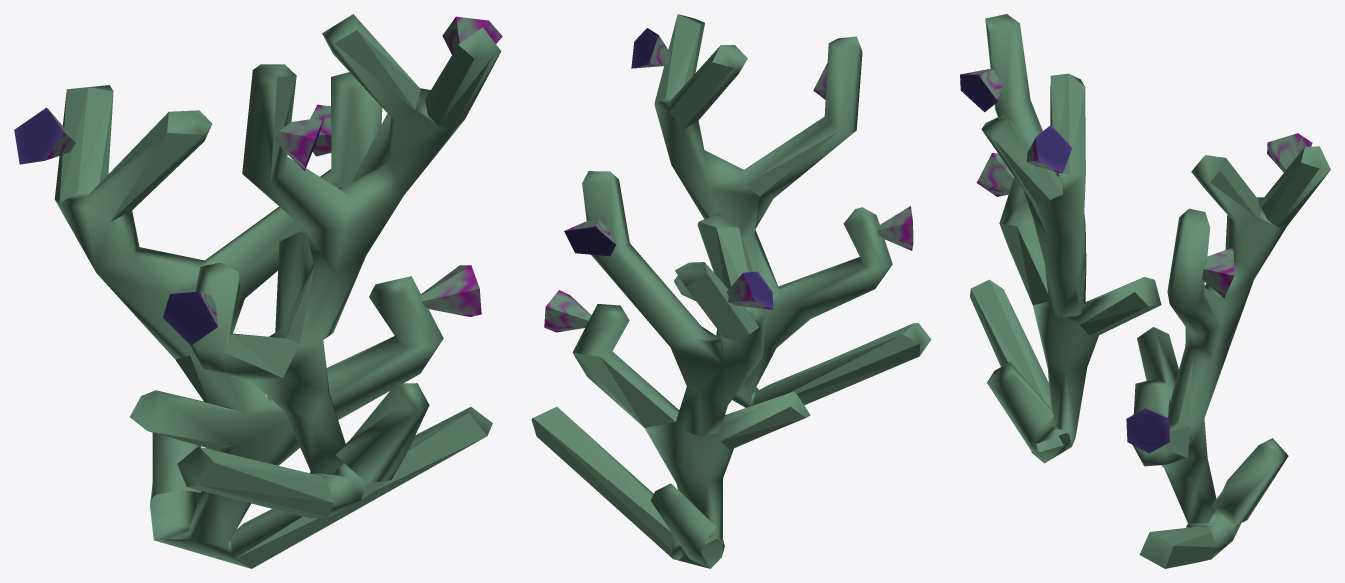
Rendered from Plant.glb.
3 views of the same model, side by side, from view 1: azimuth 30°, elevation 25°; view 2: azimuth 150°, elevation 25°; view 3: azimuth 270°, elevation 25° (orthographic). The views are drawn at different scales.
Visible parts, largest first — view 1: Trunk; view 2: Trunk; view 3: Trunk.
Boxes of the visible parts, left/top/right/bottom form: Trunk: left=14, top=14, right=502, bottom=568; Trunk: left=531, top=14, right=931, bottom=568; Trunk: left=960, top=14, right=1330, bottom=568.
Bounding box in the file's own units: 1.85 × 2.6 × 1.74.
Materials: 1 (1 with a texture image).
